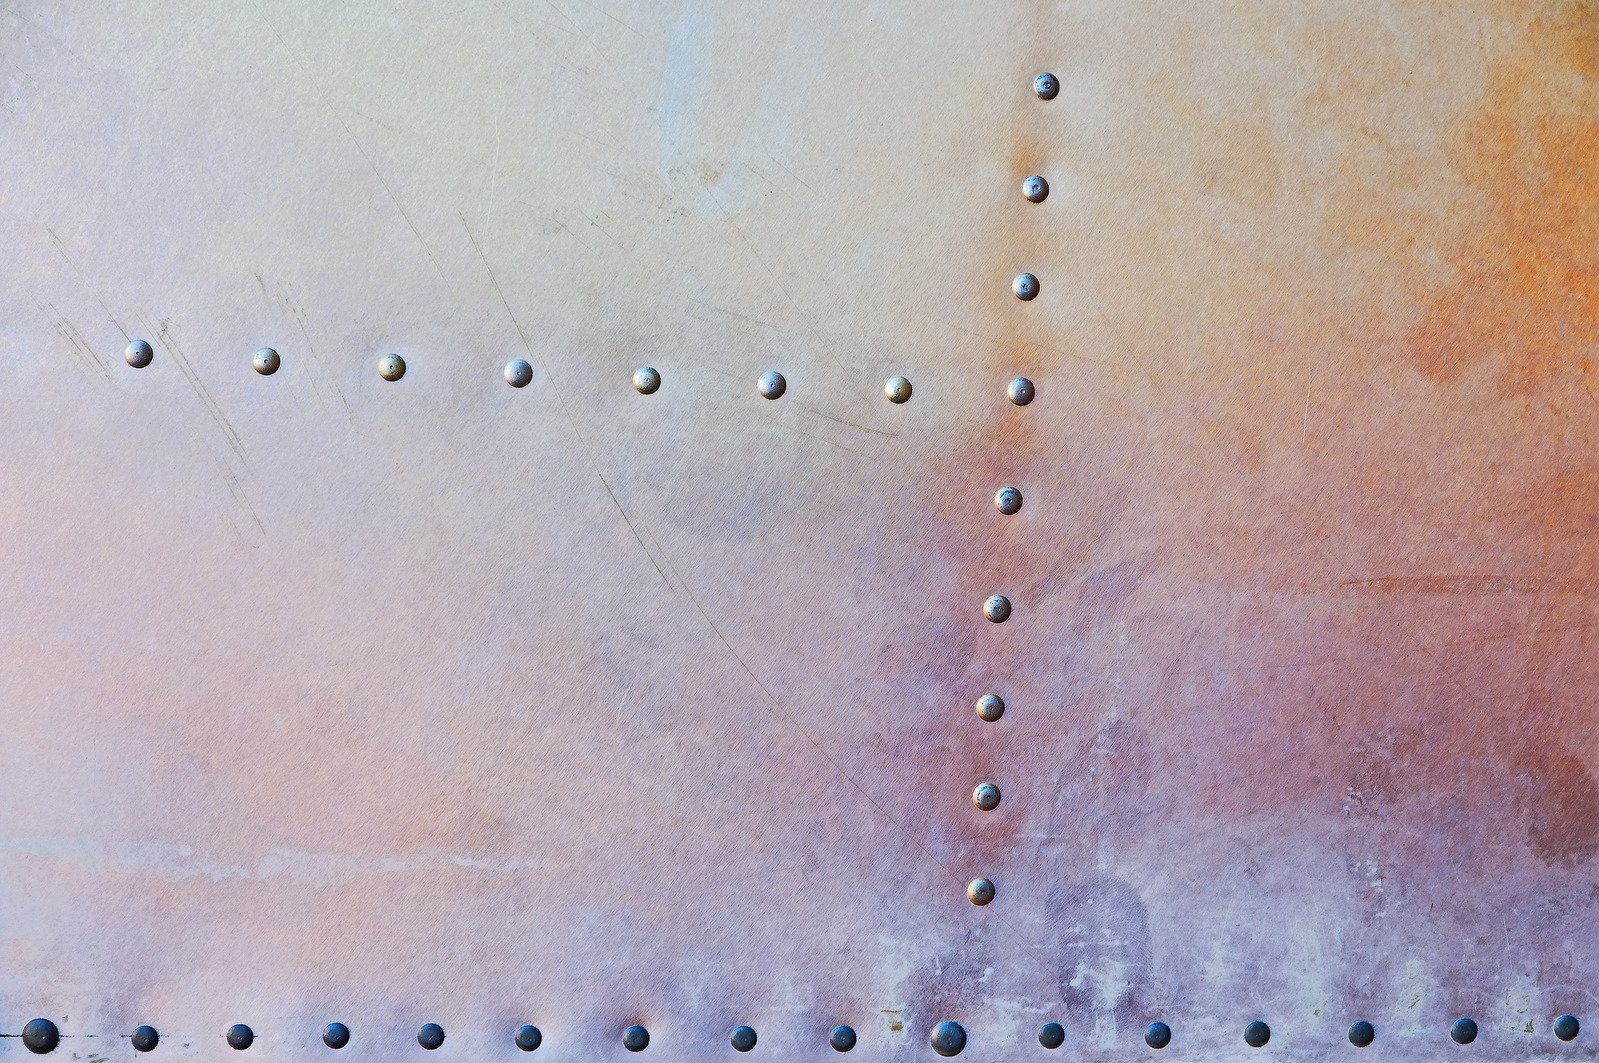rivet: (20, 1018, 63, 1056), (929, 1020, 969, 1059), (122, 338, 157, 373), (966, 876, 999, 909), (754, 370, 788, 403), (631, 365, 664, 397), (502, 359, 535, 392), (1011, 272, 1043, 305), (1007, 376, 1038, 410), (251, 346, 284, 378), (828, 1023, 860, 1055), (975, 693, 1007, 725), (993, 486, 1025, 518), (1345, 1017, 1376, 1050), (971, 781, 1002, 814), (983, 596, 1017, 626), (376, 354, 408, 384), (883, 374, 913, 406), (1448, 1017, 1482, 1046), (514, 1023, 544, 1054), (416, 1021, 447, 1052), (130, 1023, 161, 1054), (1143, 1020, 1174, 1051), (1037, 1019, 1068, 1050), (321, 1021, 353, 1051), (1552, 1013, 1584, 1043), (728, 1025, 759, 1055), (622, 1024, 651, 1054), (227, 1021, 256, 1051), (1243, 1019, 1273, 1049), (1023, 176, 1051, 205), (1034, 74, 1062, 103)
